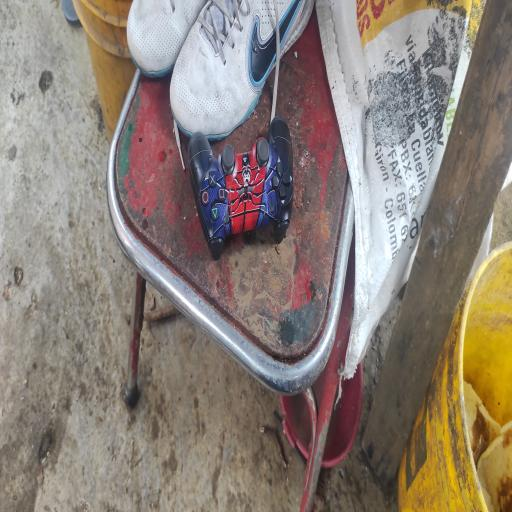ControlPlay4: (189, 117, 293, 259)
